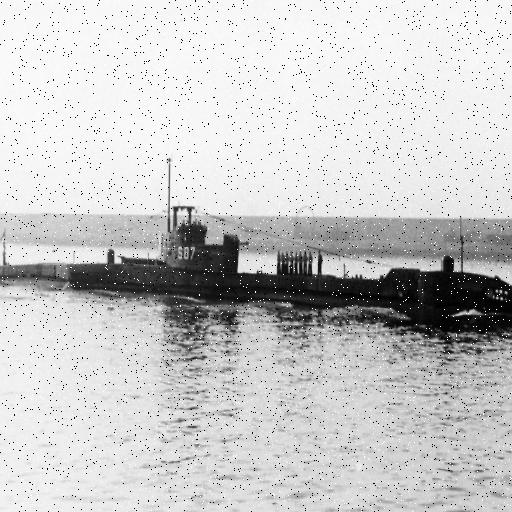submarine: (79, 203, 512, 323)
